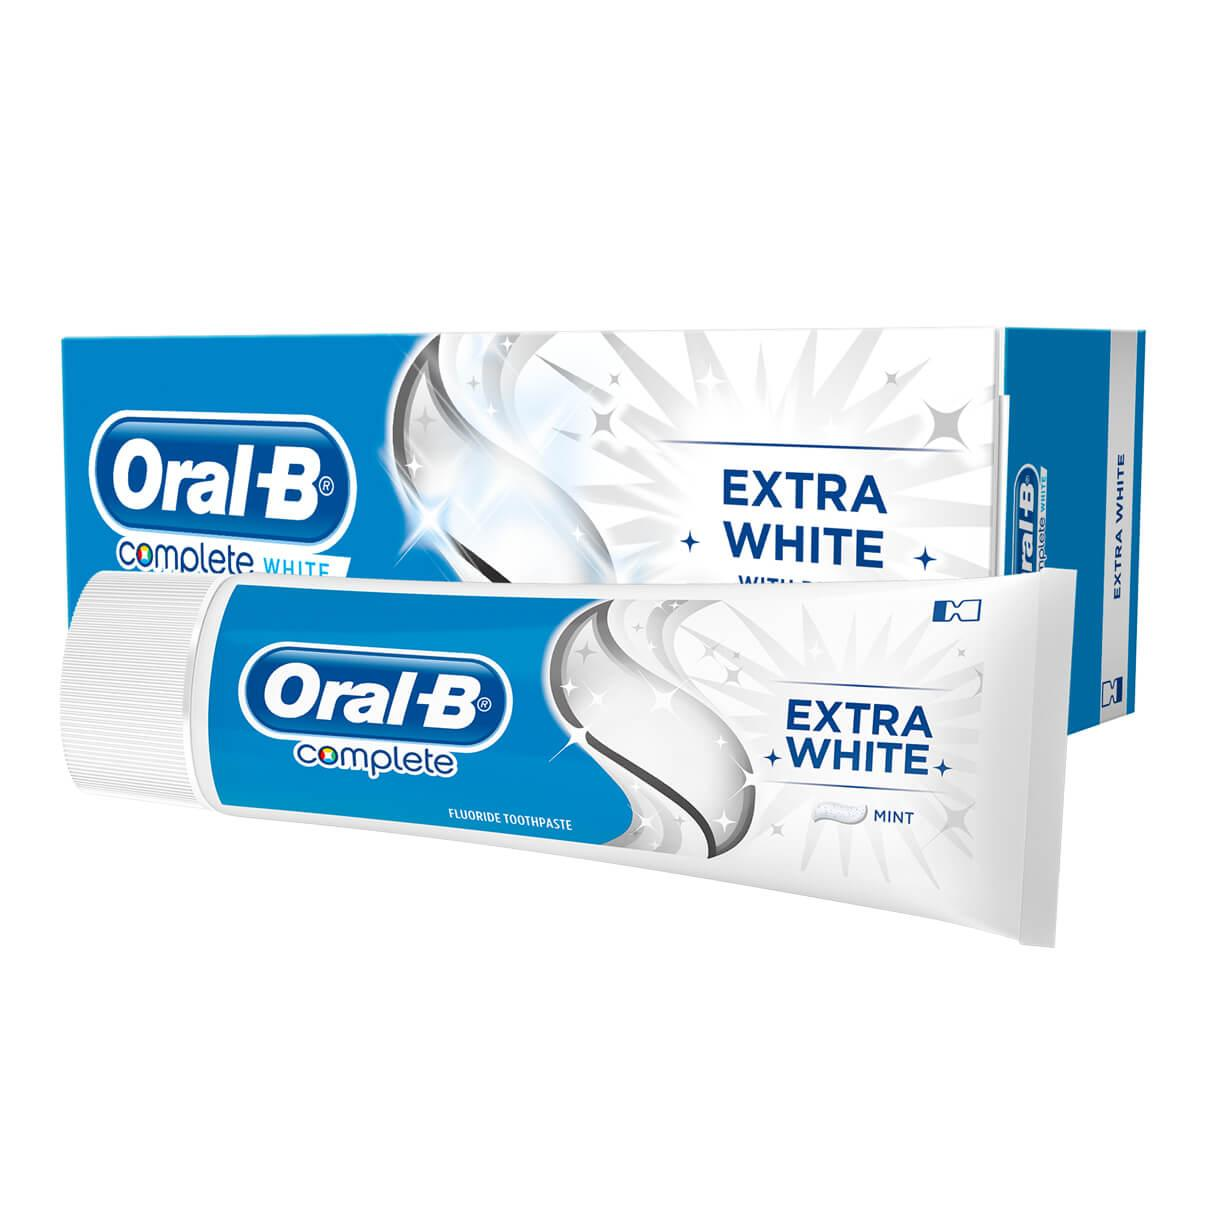toothpaste: (59, 297, 1175, 779), (34, 556, 1074, 947)
